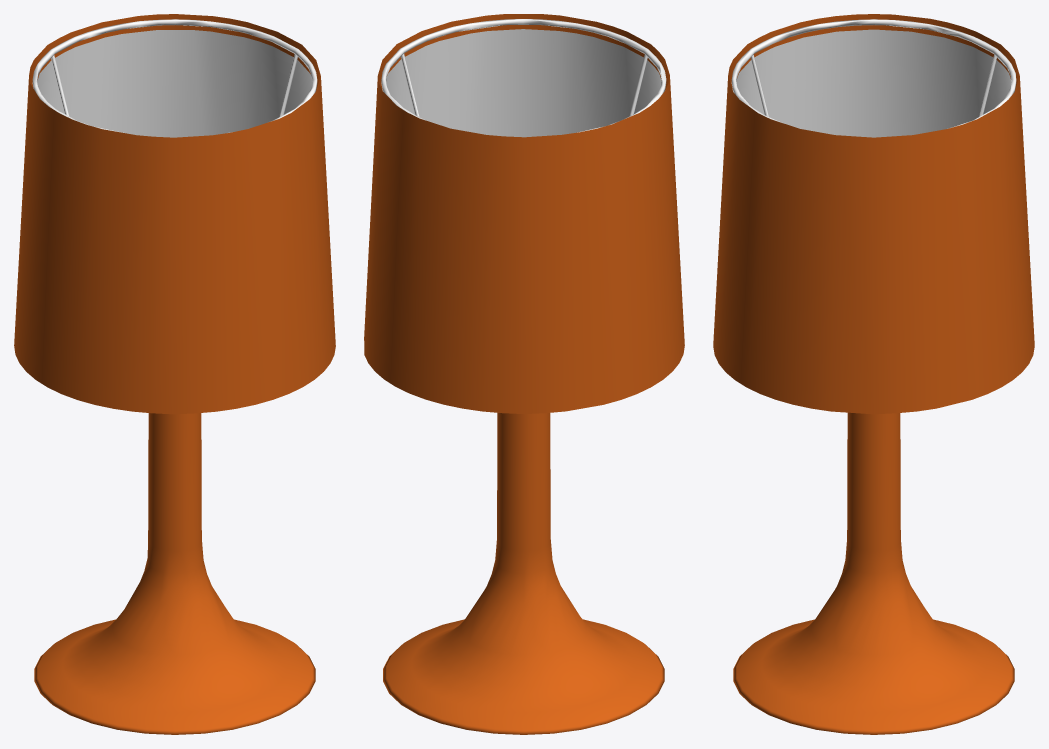
The model's file is Lamp 1.FBX.
3 renders of one model, left to right at view 1: azimuth 30°, elevation 25°; view 2: azimuth 150°, elevation 25°; view 3: azimuth 270°, elevation 25°, orthographic.
Visible parts, largest first — view 1: Lamp 1; view 2: Lamp 1; view 3: Lamp 1.
Boxes of the visible parts, x1,y1,x2,y2 form: Lamp 1: [14, 14, 335, 734]; Lamp 1: [364, 14, 684, 734]; Lamp 1: [713, 14, 1034, 734].
Size of the model in its own units: 146 by 146 by 301.
Materials: 2 (1 with a texture image).
